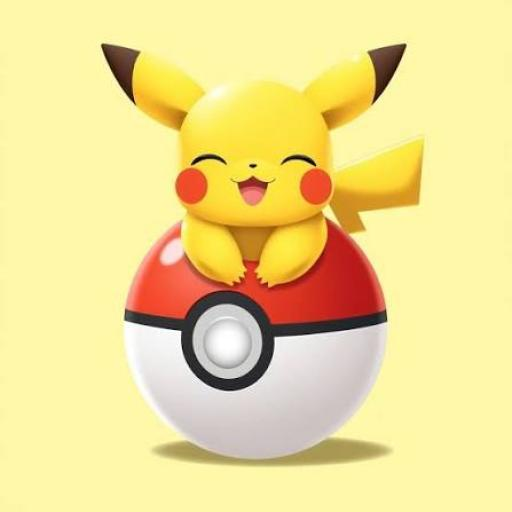Pikachu: (100, 40, 424, 286)
